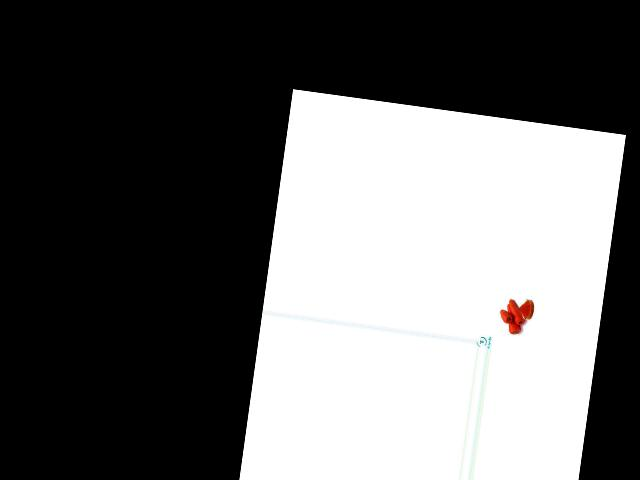carrot: (504, 297, 526, 325)
